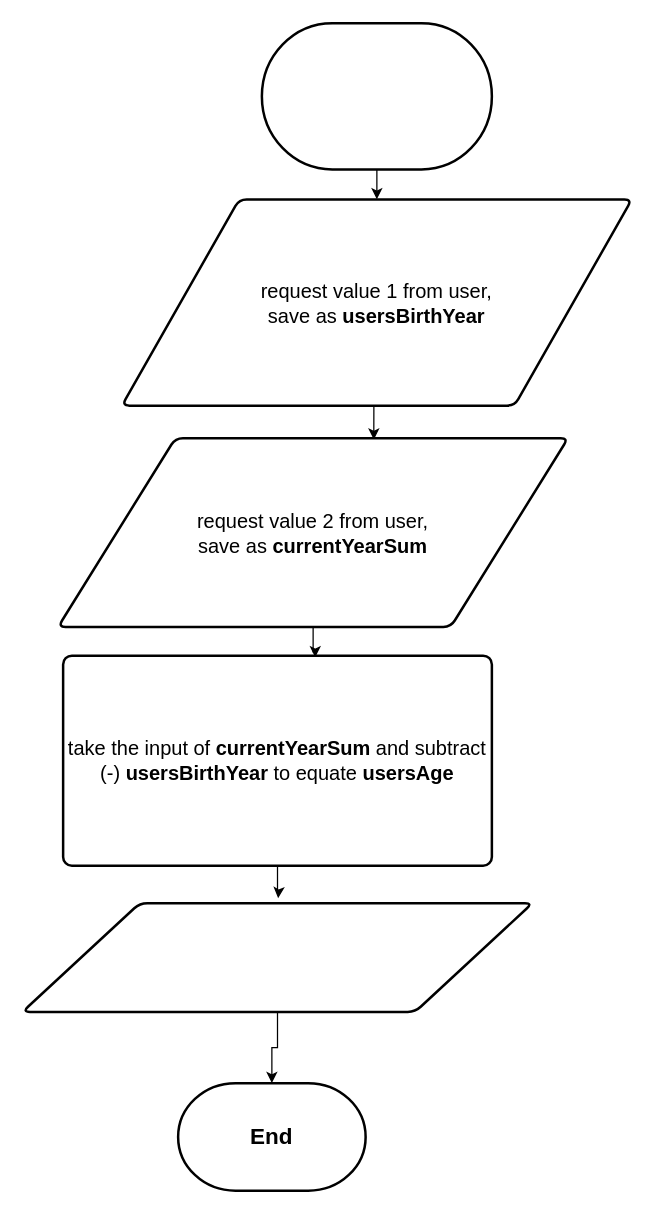
The diagram is 655 pixels wide and 1213 high, and some of its shapes have lost their labels. Here are the shapes that lost their labels. From the top down, the centre of each, then its label:
pixel 376 95: Start
pixel 277 956: print the values of " usersAge"
